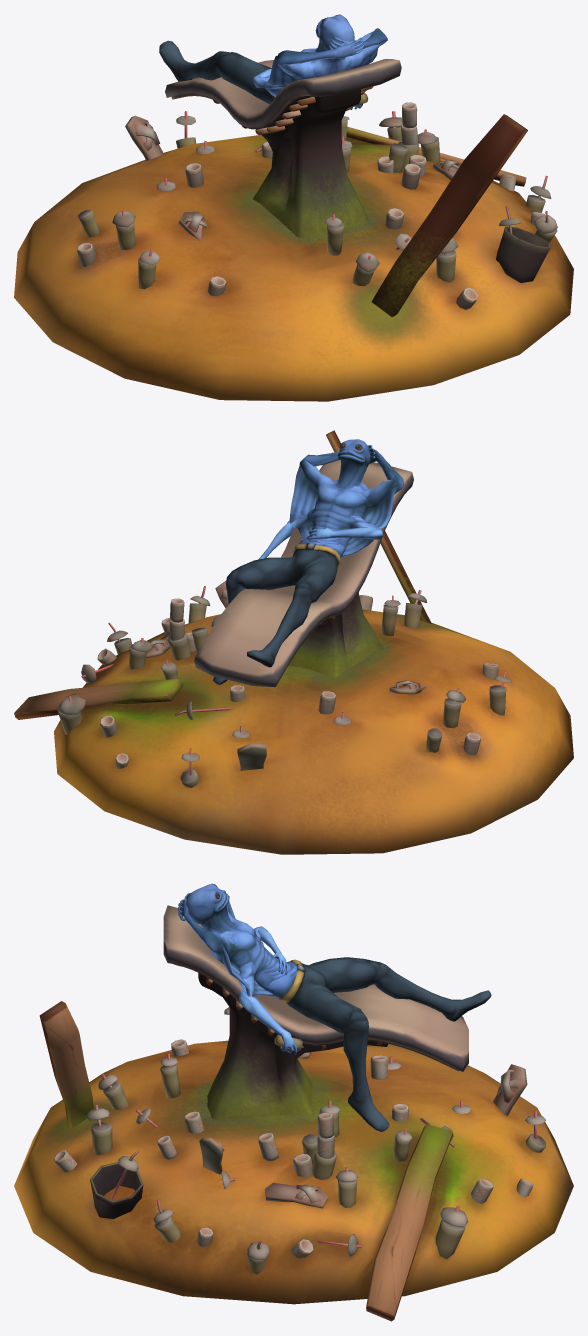
Rendered from AmphibianAlien_0_11_scene_all.fbx.
The picture shows the model from 3 angles, top to bottom: view 1: azimuth 30°, elevation 25°; view 2: azimuth 150°, elevation 25°; view 3: azimuth 270°, elevation 25°; orthographic projection. The views are drawn at different scales.
Parts seen in each view (by area): view 1: Cube, wing_low; view 2: Cube, wing_low; view 3: Cube, wing_low.
Part boxes in pixels (bbox=[...]): Cube: bbox=[14, 59, 573, 401]; wing_low: bbox=[159, 14, 387, 109]; Cube: bbox=[14, 430, 573, 854]; wing_low: bbox=[212, 439, 403, 684]; Cube: bbox=[14, 905, 573, 1321]; wing_low: bbox=[178, 883, 491, 1131].
Bounding box in the file's own units: 2575 × 1438 × 2416.
